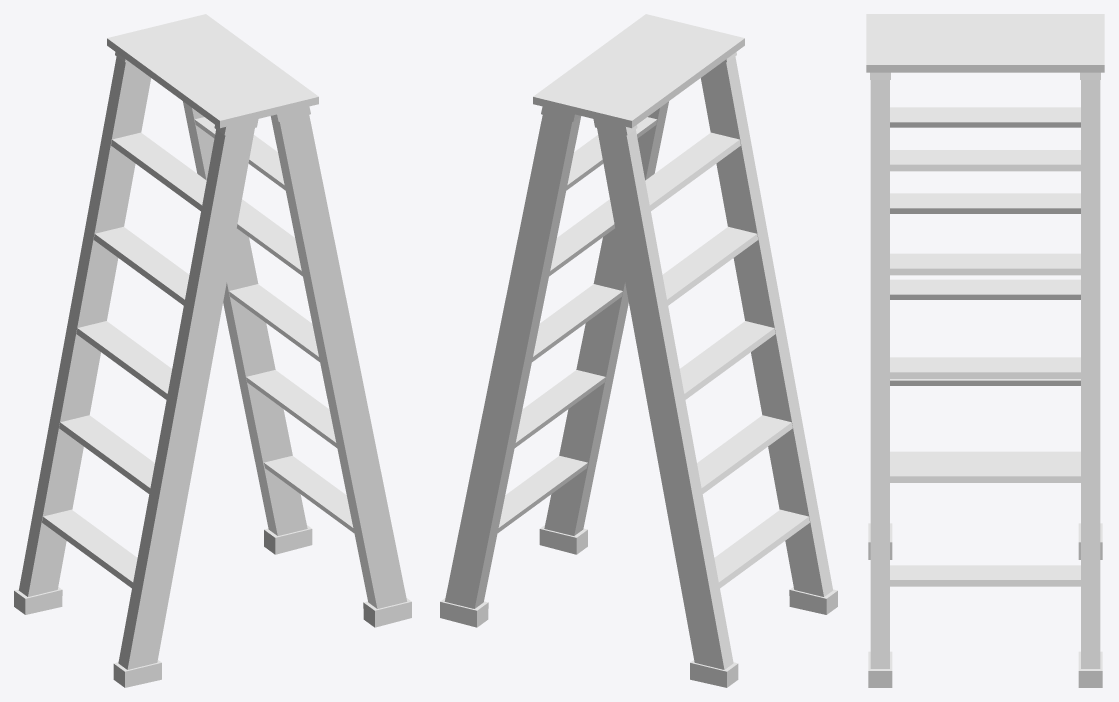
The model's file is Prop_Ladder_01.glb.
3 views of the same model, side by side, from view 1: azimuth 30°, elevation 25°; view 2: azimuth 150°, elevation 25°; view 3: azimuth 270°, elevation 25° (orthographic). The views are drawn at different scales.
Parts seen in each view (by area): view 1: Prop_Ladder_01; view 2: Prop_Ladder_01; view 3: Prop_Ladder_01.
Boxes of the visible parts, bbox=[...] form: Prop_Ladder_01: bbox=[14, 14, 411, 687]; Prop_Ladder_01: bbox=[440, 14, 837, 687]; Prop_Ladder_01: bbox=[866, 14, 1104, 687].
Size of the model in its own units: 1.24 by 2.26 by 0.8479.
1 material, 1 textured.
